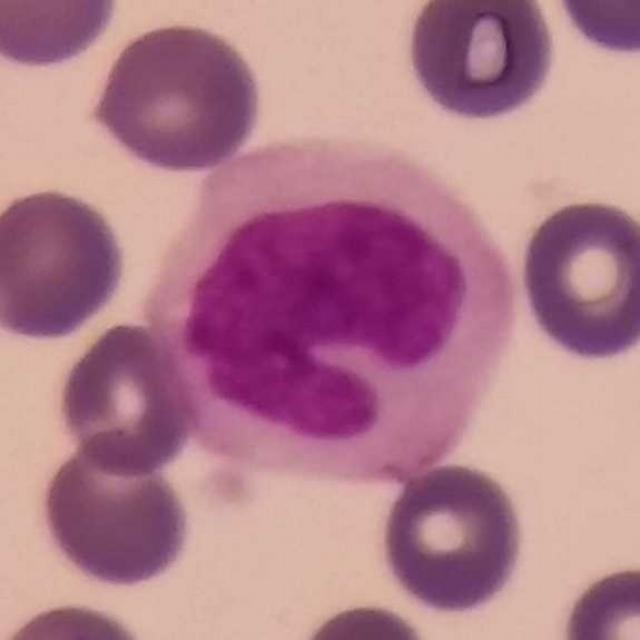Monocyte: (147, 133, 519, 491)
RBC: (84, 15, 267, 176), (33, 429, 197, 592), (374, 458, 531, 616), (52, 318, 202, 479), (513, 193, 640, 366), (0, 182, 131, 345), (401, 0, 561, 127), (0, 0, 124, 72), (556, 560, 640, 640), (0, 597, 156, 640), (287, 599, 443, 640), (547, 0, 640, 60)
